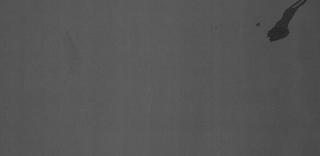oil spot: (252, 0, 312, 44)
